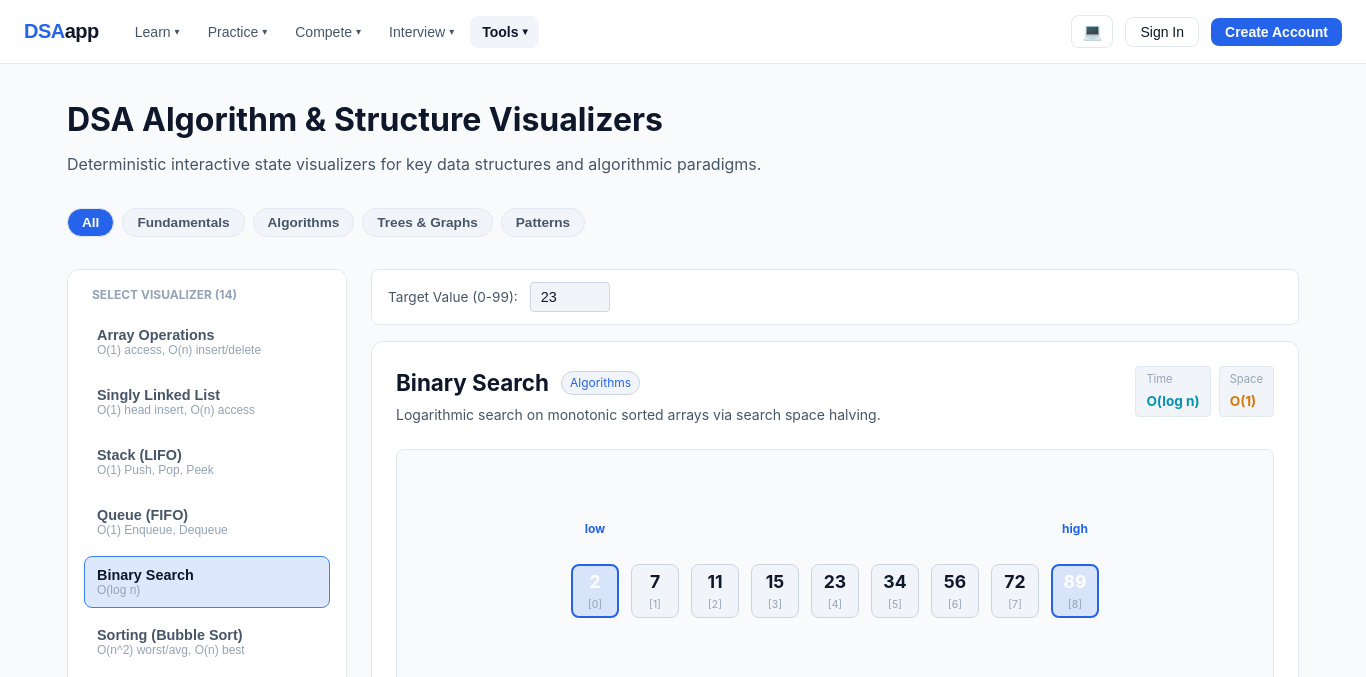
DSAapp Phase 6 DSA Visualizers Engine & UI › filters visualizer catalog by category
expect the heading "DSA Algorithm & Structure Visualizers" is shown: met, box [67, 100, 663, 139]
// Click Patterns filter
Click the button "Patterns" at (543, 222), box [501, 208, 585, 237]
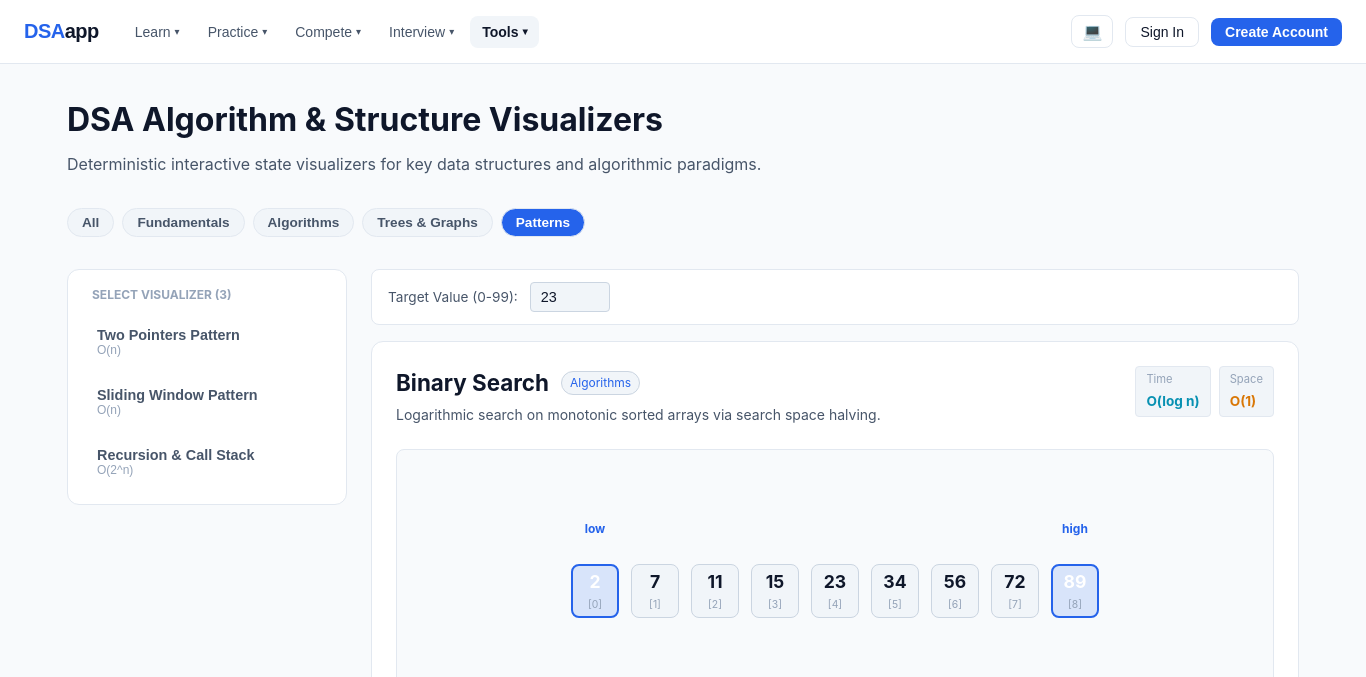
expect the text "Two Pointers Pattern" is shown: met, box [97, 327, 240, 343]
expect the text "Sliding Window Pattern" is shown: met, box [97, 387, 258, 403]
